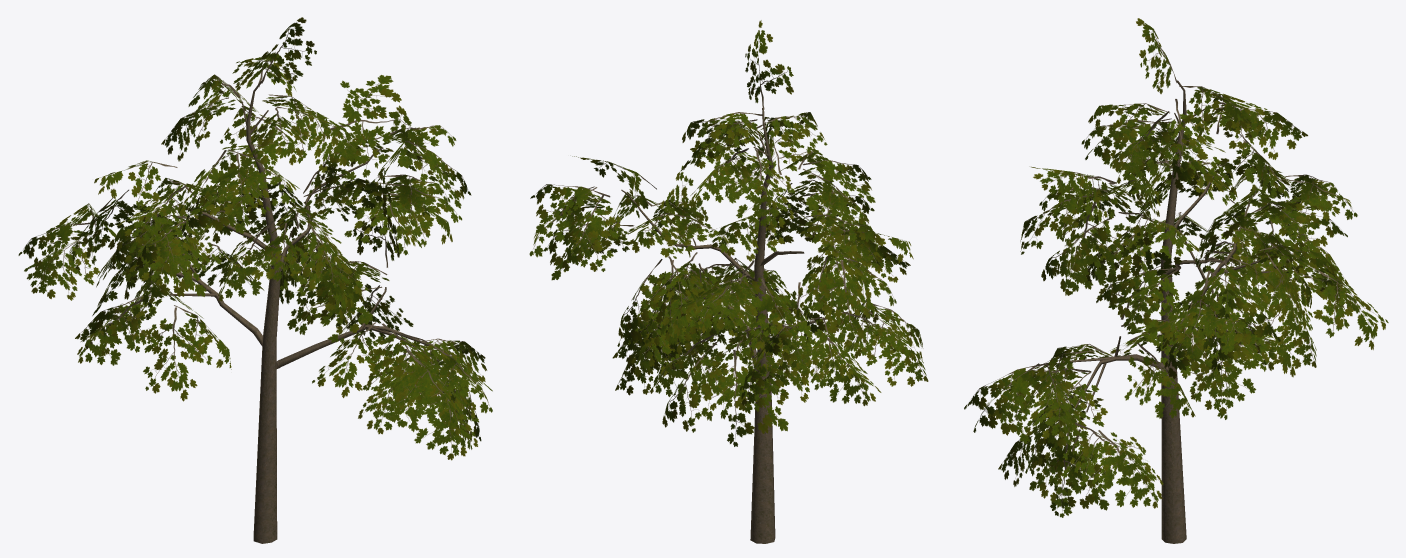
Rendered from maple_acer_medium_3_lod2.gltf.
3 views of the same model, side by side, from view 1: azimuth 30°, elevation 25°; view 2: azimuth 150°, elevation 25°; view 3: azimuth 270°, elevation 25° (orthographic). The views are drawn at different scales.
Parts seen in each view (by area): view 1: Acer_medium_3_LOD2_Cluster_Mat_0, Acer_medium_3_LOD2_Bark_Mat_0; view 2: Acer_medium_3_LOD2_Cluster_Mat_0, Acer_medium_3_LOD2_Bark_Mat_0; view 3: Acer_medium_3_LOD2_Cluster_Mat_0, Acer_medium_3_LOD2_Bark_Mat_0.
Part boxes in pixels (x1=…): Acer_medium_3_LOD2_Cluster_Mat_0: x1=18, y1=17, x2=492, y2=460; Acer_medium_3_LOD2_Bark_Mat_0: x1=154, y1=81, x2=440, y2=543; Acer_medium_3_LOD2_Cluster_Mat_0: x1=529, y1=20, x2=928, y2=446; Acer_medium_3_LOD2_Bark_Mat_0: x1=621, y1=108, x2=847, y2=543; Acer_medium_3_LOD2_Cluster_Mat_0: x1=964, y1=18, x2=1388, y2=517; Acer_medium_3_LOD2_Bark_Mat_0: x1=1063, y1=80, x2=1260, y2=543.
Bounding box in the file's own units: 8.5 × 10.29 × 7.55.
2 materials, 2 textured.
